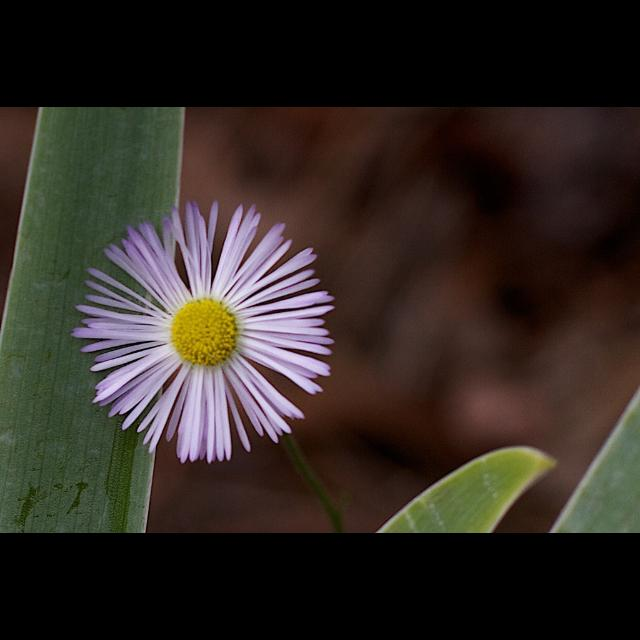Flower: (78, 214, 326, 478)
